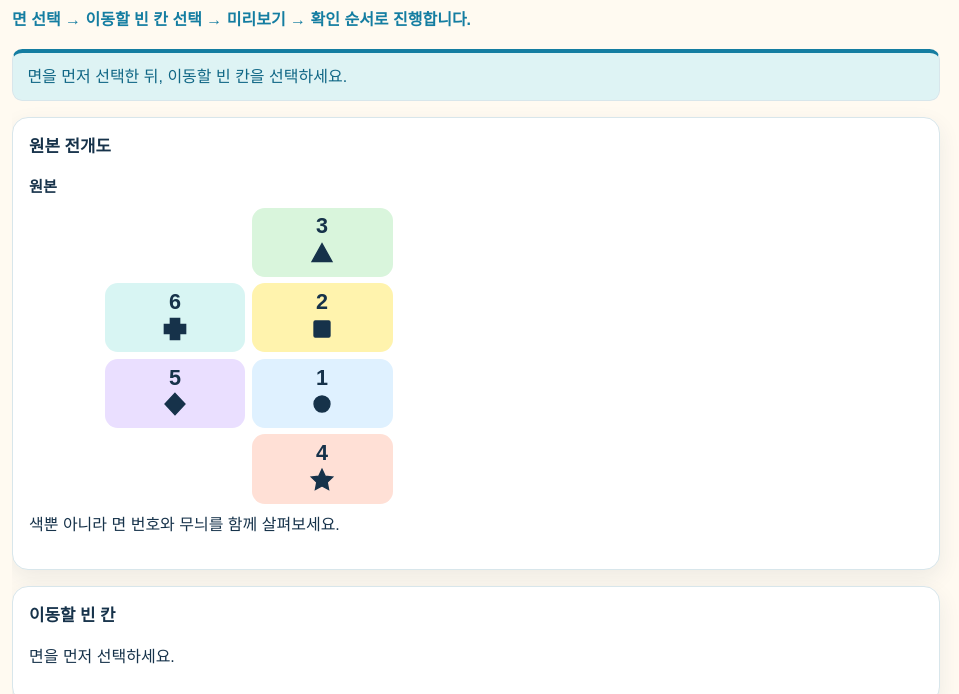
RepairScreen › renders occupied and empty target cells in their actual coordinate rows and columns
This screenshot has width=959, height=694.
Click the button named "6번 면": (175, 318) x1=104 y1=283 x2=245 y2=352
(page scrolled)
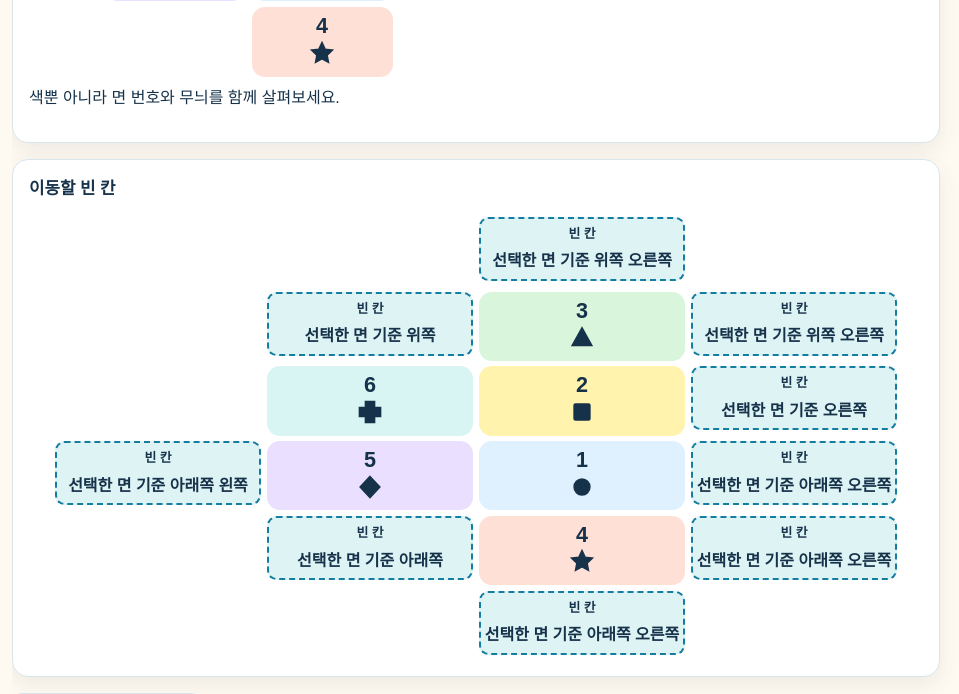
Expected: the element with class "repair-grid-occupied" showing "3" is shown, x1=479 y1=292 x2=685 y2=361
